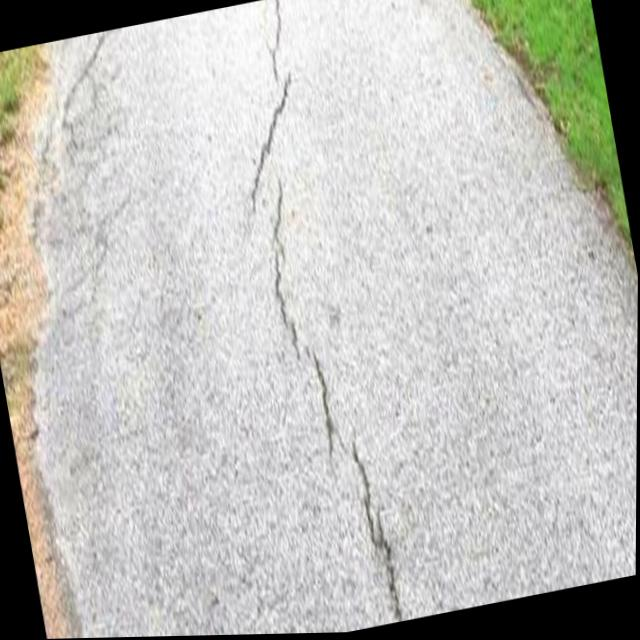Crack: (209, 0, 410, 636)
